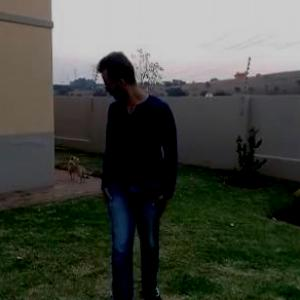follow: (91, 47, 178, 299)
